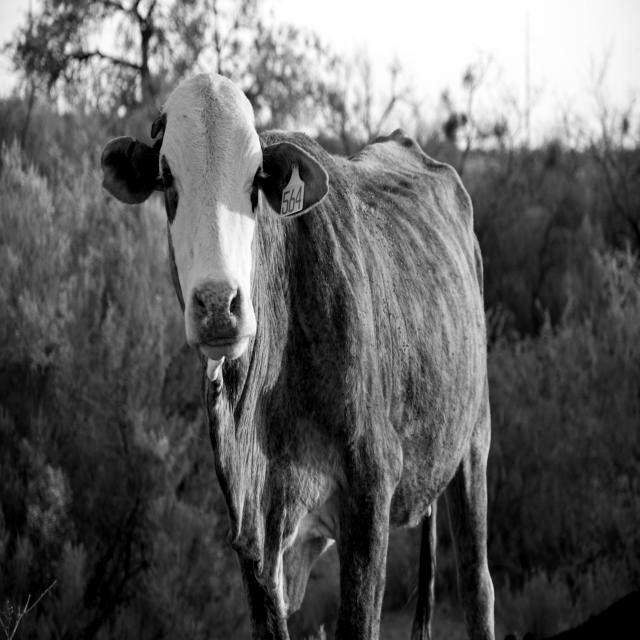COW: (101, 73, 494, 638)
